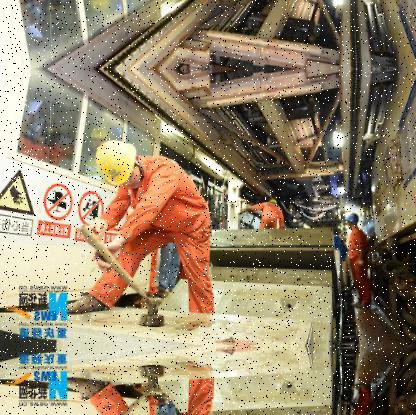helmet: (92, 136, 145, 190), (346, 211, 360, 232)
